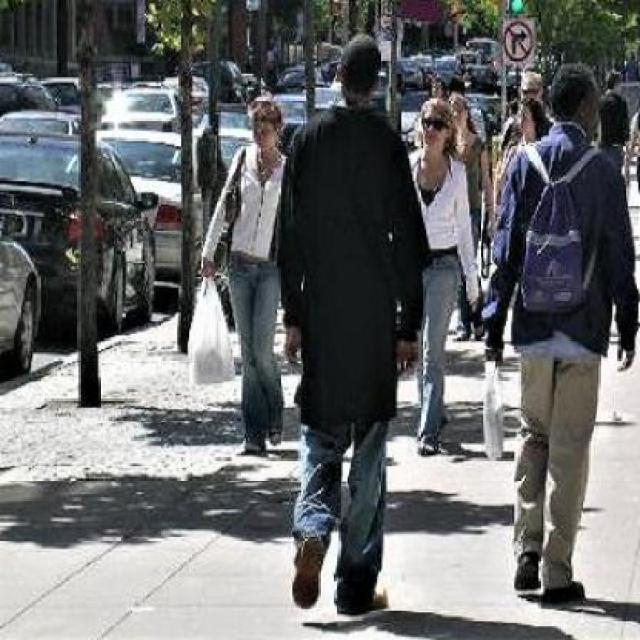Person: (481, 58, 637, 618), (280, 28, 423, 624), (196, 96, 284, 459), (402, 92, 472, 457)
